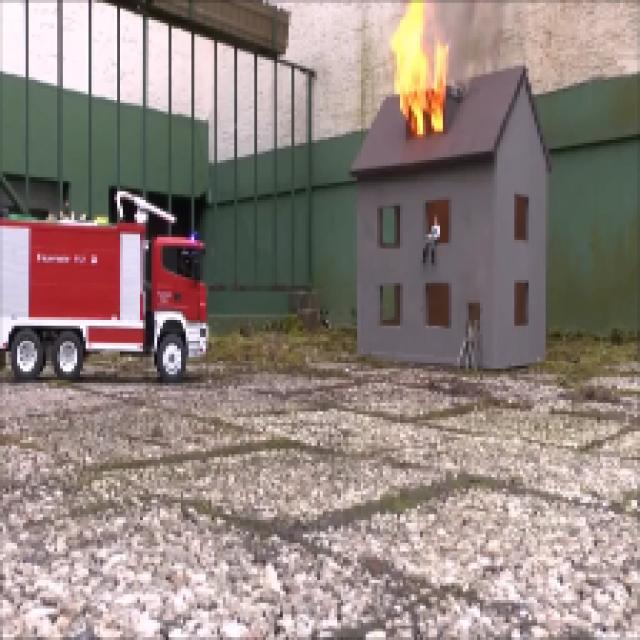fire: (382, 8, 448, 132)
